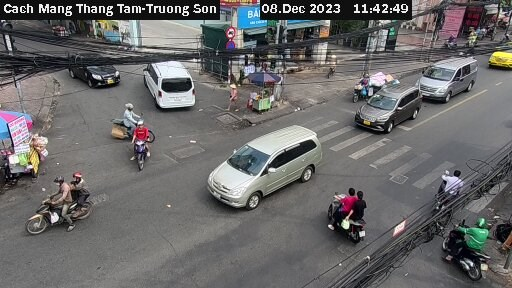car: (204, 123, 324, 212), (358, 80, 423, 135), (140, 56, 200, 110), (419, 54, 480, 105), (69, 51, 123, 88), (488, 40, 512, 69)
motorbike: (21, 180, 101, 233), (447, 213, 492, 280), (328, 188, 374, 241), (431, 167, 468, 217), (108, 98, 155, 136), (124, 126, 161, 168), (348, 69, 376, 101)
